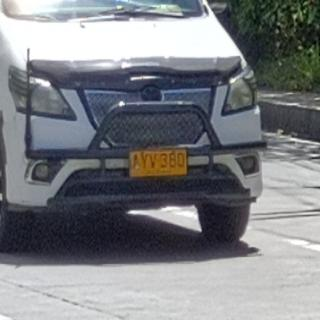license: (131, 149, 189, 178)
